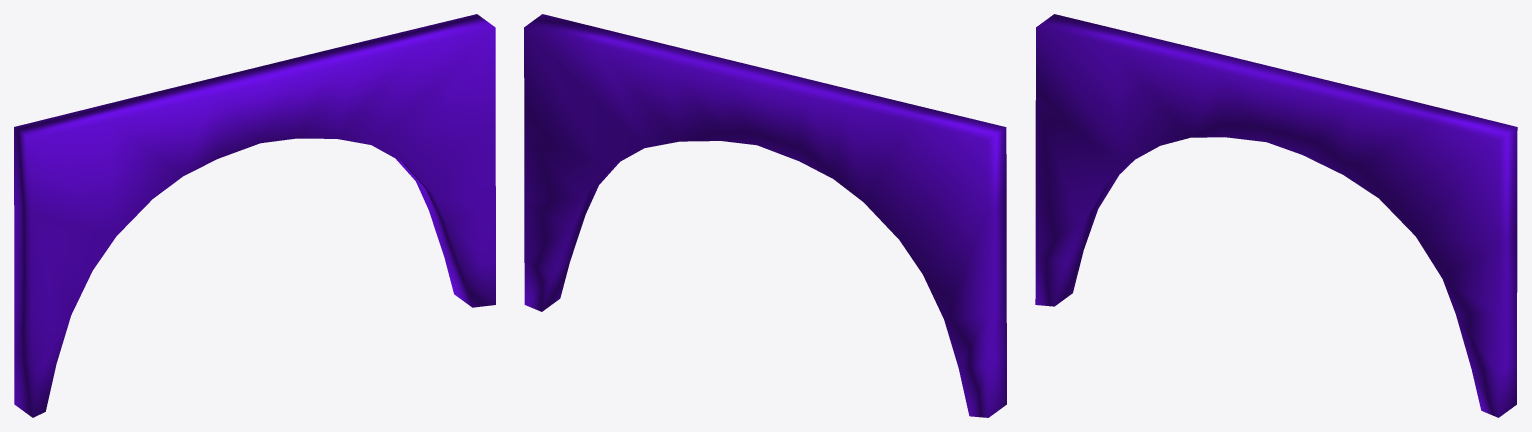
File: Gateway_06_A_Full.fbx
The picture shows the model from 3 angles, left to right: view 1: azimuth 30°, elevation 25°; view 2: azimuth 150°, elevation 25°; view 3: azimuth 330°, elevation 25°; orthographic projection.
Parts seen in each view (by area): view 1: Gateway_06_A_Full; view 2: Gateway_06_A_Full; view 3: Gateway_06_A_Full.
Part boxes in pixels (left/top/right/bottom): Gateway_06_A_Full: left=14, top=14, right=495, bottom=417; Gateway_06_A_Full: left=524, top=14, right=1006, bottom=417; Gateway_06_A_Full: left=1035, top=14, right=1517, bottom=417.
Bounding box in the file's own units: 680 × 389 × 54.6.
